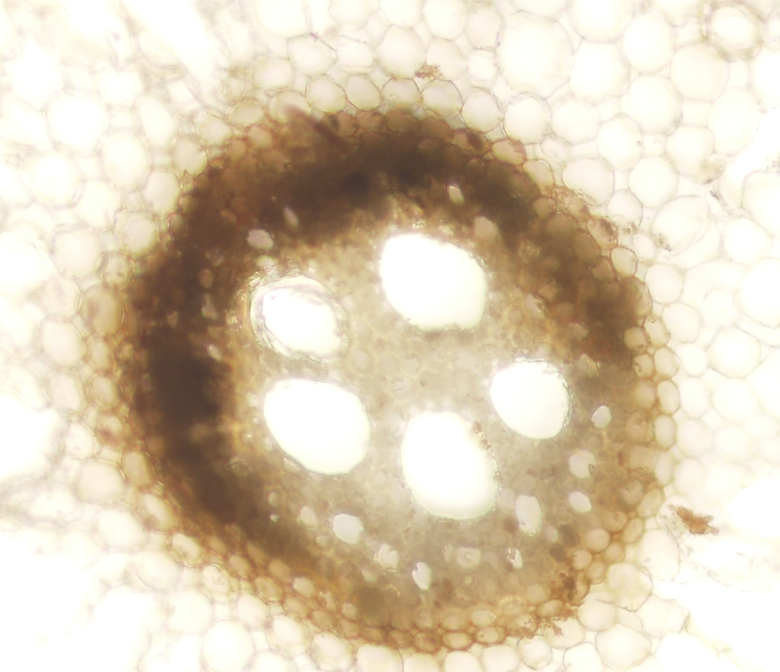lm: (400, 407, 497, 520), (377, 232, 487, 331), (263, 378, 370, 476), (248, 274, 351, 361), (490, 358, 569, 439)
